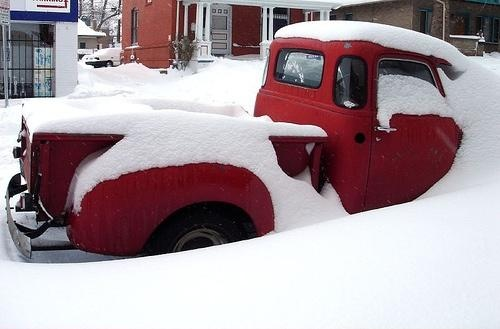car: (5, 24, 500, 261), (82, 48, 125, 69)
